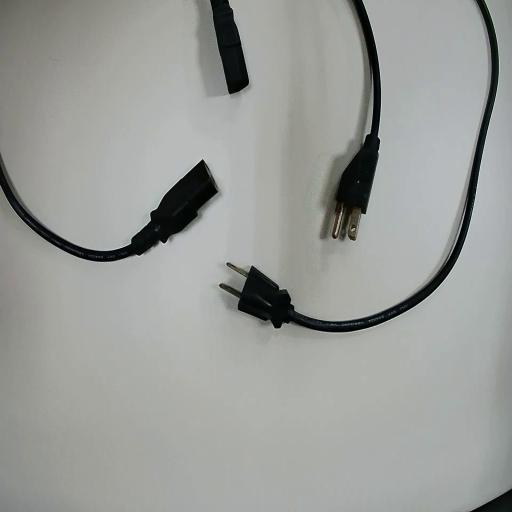wire: (222, 0, 497, 331), (0, 161, 216, 260), (334, 0, 379, 229), (211, 0, 247, 92)
